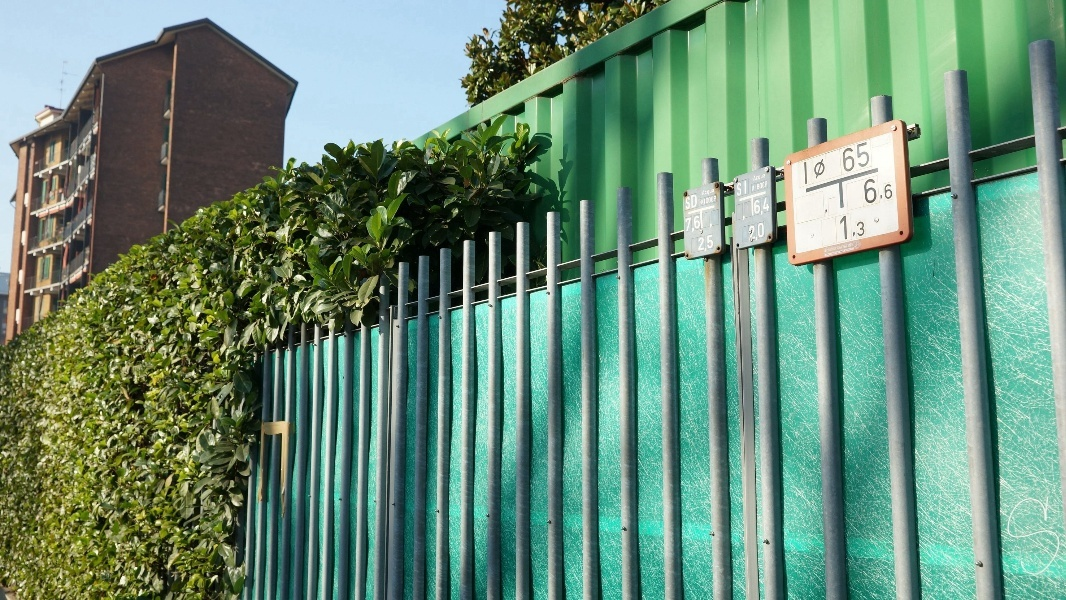text: (849, 141, 864, 175), (849, 213, 864, 242), (865, 178, 880, 206), (753, 196, 768, 221), (881, 178, 894, 206), (804, 161, 816, 185), (753, 221, 765, 244), (737, 180, 752, 198), (689, 215, 701, 237), (839, 213, 848, 242), (705, 233, 714, 256), (842, 141, 848, 175), (865, 141, 871, 175), (754, 173, 768, 185), (833, 247, 848, 258), (689, 193, 698, 211), (698, 233, 704, 256), (833, 243, 848, 252), (705, 195, 717, 206), (757, 180, 768, 191), (748, 221, 752, 244), (705, 189, 715, 198), (825, 247, 832, 258), (685, 215, 688, 237), (849, 247, 855, 258), (769, 196, 771, 221), (827, 243, 832, 252), (849, 243, 854, 252), (686, 193, 688, 211), (865, 213, 866, 242), (863, 178, 864, 206), (703, 189, 704, 198)
